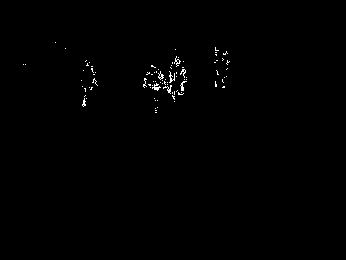person: (167, 53, 188, 106), (144, 63, 164, 114), (79, 59, 97, 106), (212, 46, 230, 90)
